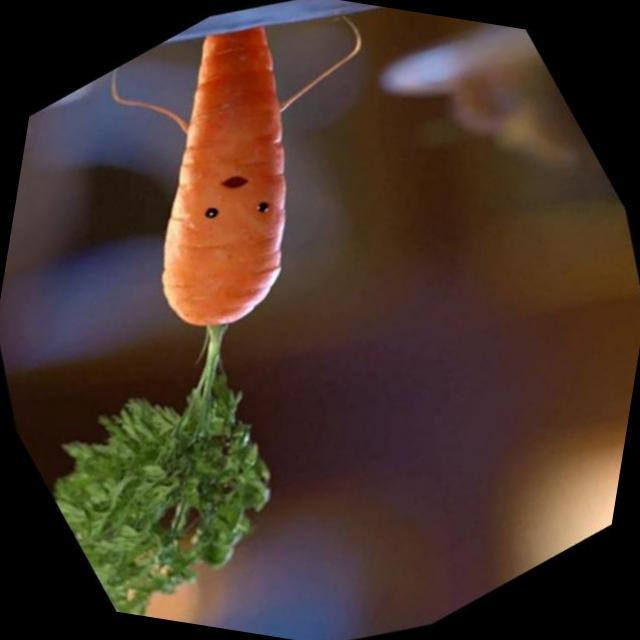carrot: (0, 0, 471, 449)
